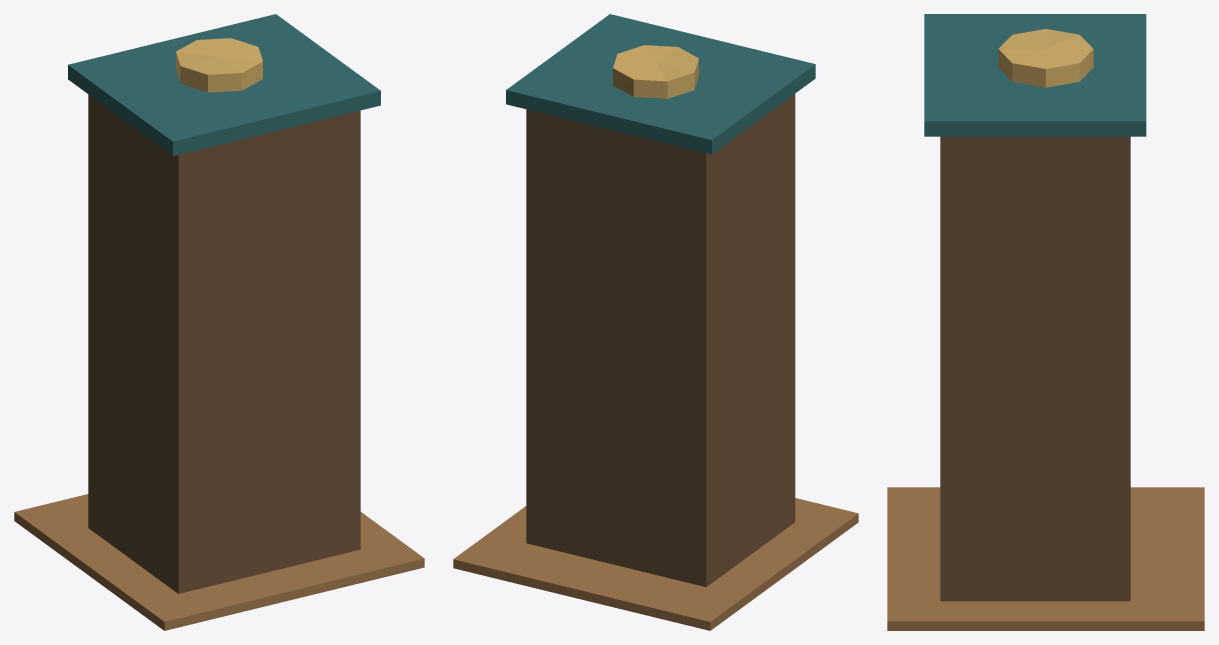
File: lighthouse.source.glb
3 views of the same model, side by side, from view 1: azimuth 30°, elevation 25°; view 2: azimuth 150°, elevation 25°; view 3: azimuth 270°, elevation 25° (orthographic). The views are drawn at different scales.
Visible parts, largest first — view 1: lighthouse-body-mesh, lighthouse-roof-mesh, lighthouse-base-mesh, lighthouse-beacon-mesh; view 2: lighthouse-body-mesh, lighthouse-roof-mesh, lighthouse-base-mesh, lighthouse-beacon-mesh; view 3: lighthouse-body-mesh, lighthouse-base-mesh, lighthouse-roof-mesh, lighthouse-beacon-mesh.
Boxes of the visible parts, x1,y1,x2,y2 form: lighthouse-body-mesh: (88,94,360,593); lighthouse-roof-mesh: (68,14,380,155); lighthouse-base-mesh: (14,494,424,630); lighthouse-beacon-mesh: (176,38,262,92); lighthouse-body-mesh: (526,94,795,587); lighthouse-roof-mesh: (506,14,815,154); lighthouse-base-mesh: (453,498,858,630); lighthouse-beacon-mesh: (613,45,698,98); lighthouse-body-mesh: (940,136,1130,601); lighthouse-base-mesh: (887,487,1204,630); lighthouse-roof-mesh: (924,14,1146,136); lighthouse-beacon-mesh: (998,29,1093,87).
Bounding box in the file's own units: 3 × 5.37 × 3.
